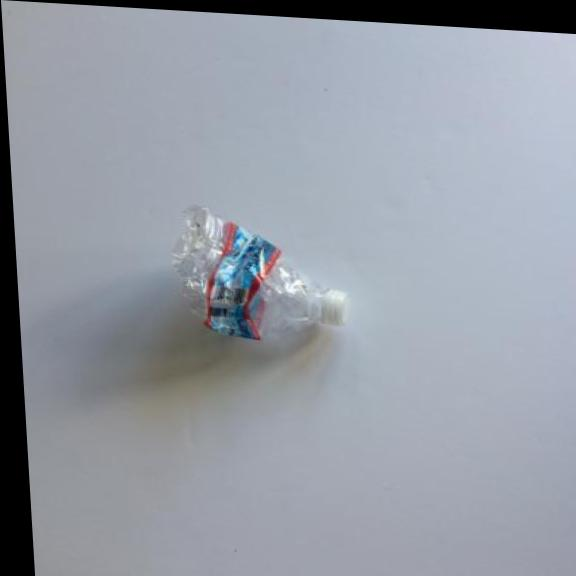Plastik: (165, 201, 361, 349)
